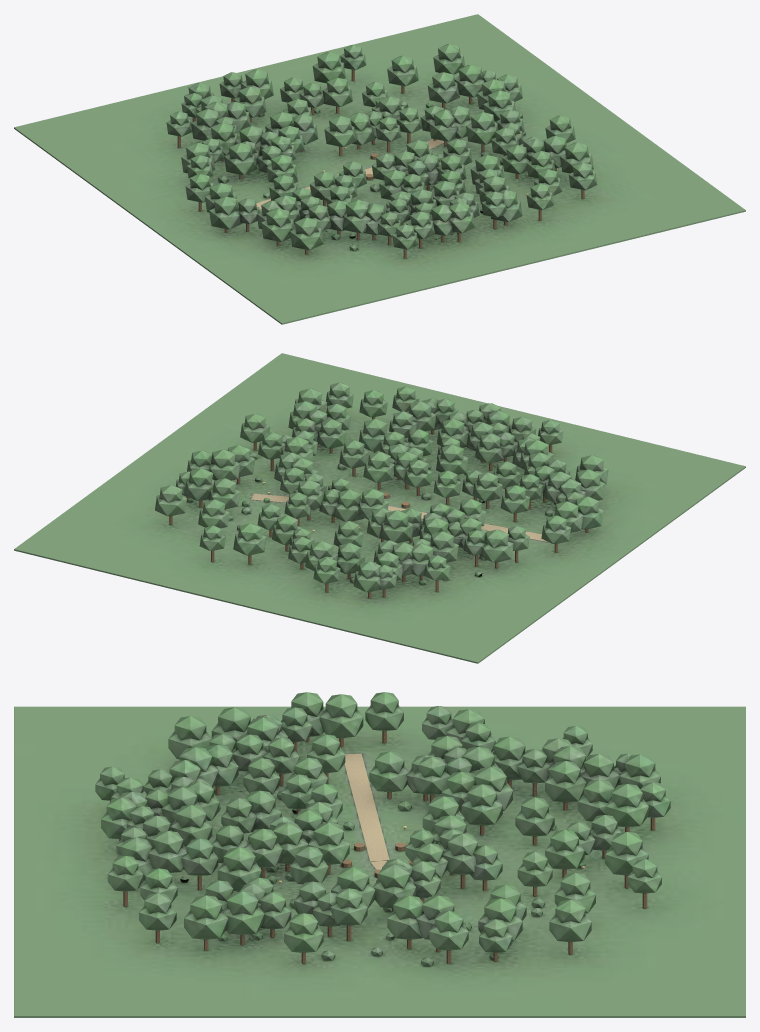
The model's file is forest.glb.
3 renders of one model, top to bottom at view 1: azimuth 30°, elevation 25°; view 2: azimuth 150°, elevation 25°; view 3: azimuth 270°, elevation 25°, orthographic. The views are drawn at different scales.
Parts seen in each view (by area): view 1: 統合 下草, 統合 葉.001, 統合 木; view 2: 統合 下草, 統合 葉.001, 統合 木, 統合 土の道; view 3: 統合 下草, 統合 葉.001, 統合 木, 統合 土の道.
Part boxes in pixels (box(x1,y1,x2,y2)): 統合 下草: box(14, 14, 745, 324); 統合 葉.001: box(166, 44, 597, 250); 統合 木: box(177, 70, 584, 258); 統合 下草: box(14, 353, 745, 663); 統合 葉.001: box(155, 382, 608, 592); 統合 木: box(169, 417, 588, 598); 統合 土の道: box(251, 493, 547, 541); 統合 下草: box(14, 706, 745, 1017); 統合 葉.001: box(95, 692, 670, 966); 統合 木: box(110, 731, 655, 963); 統合 土の道: box(344, 753, 389, 869).
Size of the model in its own units: 104 by 9.21 by 104.
Materials: 6 (6 with a texture image).
